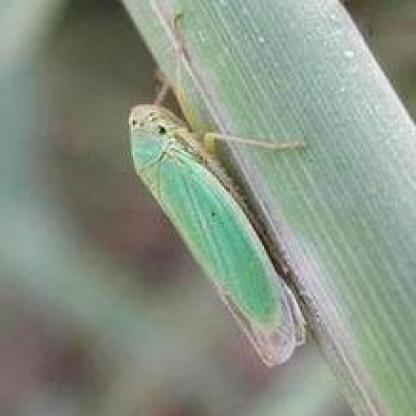Green-Leafhopper: (127, 16, 308, 361)
